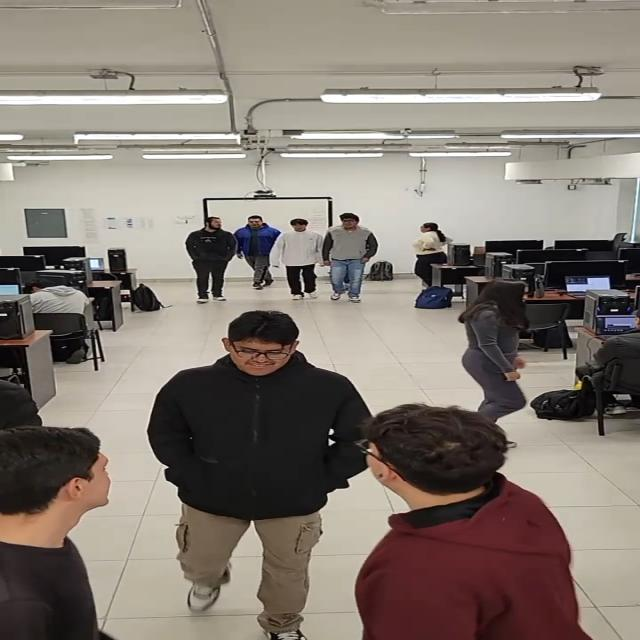Persona: (160, 305, 348, 640), (356, 399, 582, 640), (5, 423, 135, 640), (446, 288, 554, 419), (327, 214, 377, 305), (187, 212, 235, 304), (276, 215, 323, 302), (238, 211, 278, 290), (409, 221, 451, 283)
